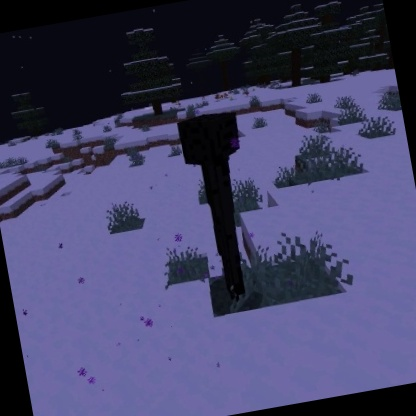enderman: (173, 106, 271, 307)
